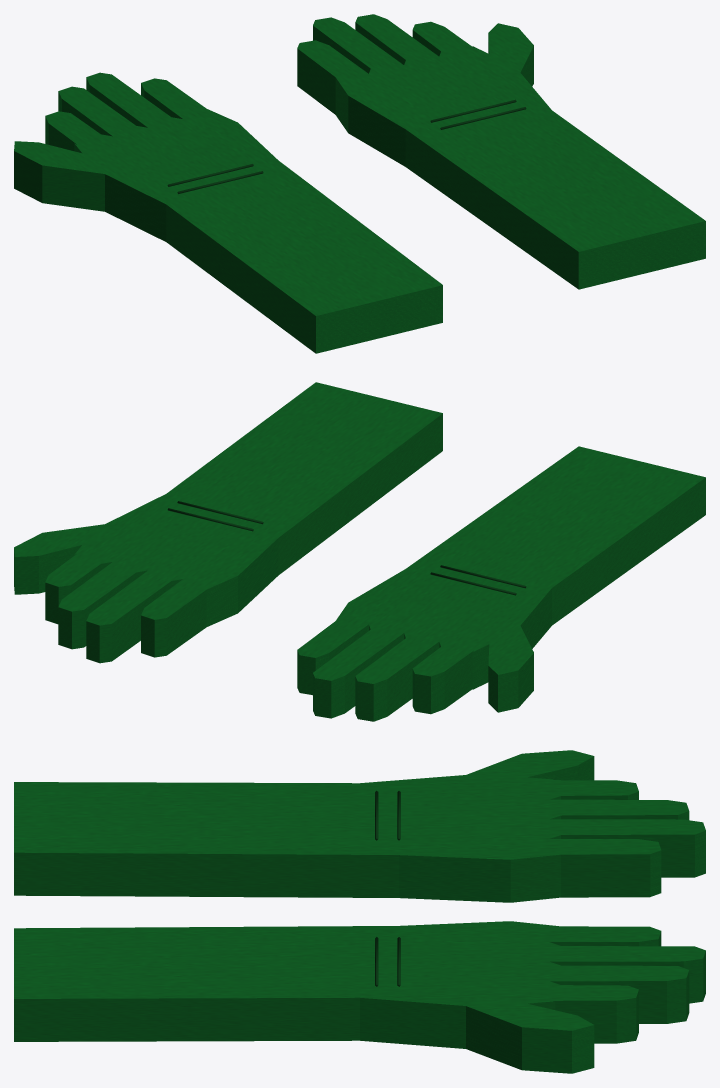
The model's file is ChemicalGloves.gltf.
The picture shows the model from 3 angles, top to bottom: view 1: azimuth 30°, elevation 25°; view 2: azimuth 150°, elevation 25°; view 3: azimuth 270°, elevation 25°; orthographic projection. The views are drawn at different scales.
Parts seen in each view (by area): view 1: ChemicalGloves__Body; view 2: ChemicalGloves__Body; view 3: ChemicalGloves__Body.
Part boxes in pixels (bbox=[...]): ChemicalGloves__Body: bbox=[14, 14, 705, 353]; ChemicalGloves__Body: bbox=[14, 382, 705, 721]; ChemicalGloves__Body: bbox=[14, 750, 705, 1073].
Size of the model in its own units: 0.3332 by 0.0256 by 0.3472.
1 material, 1 textured.
